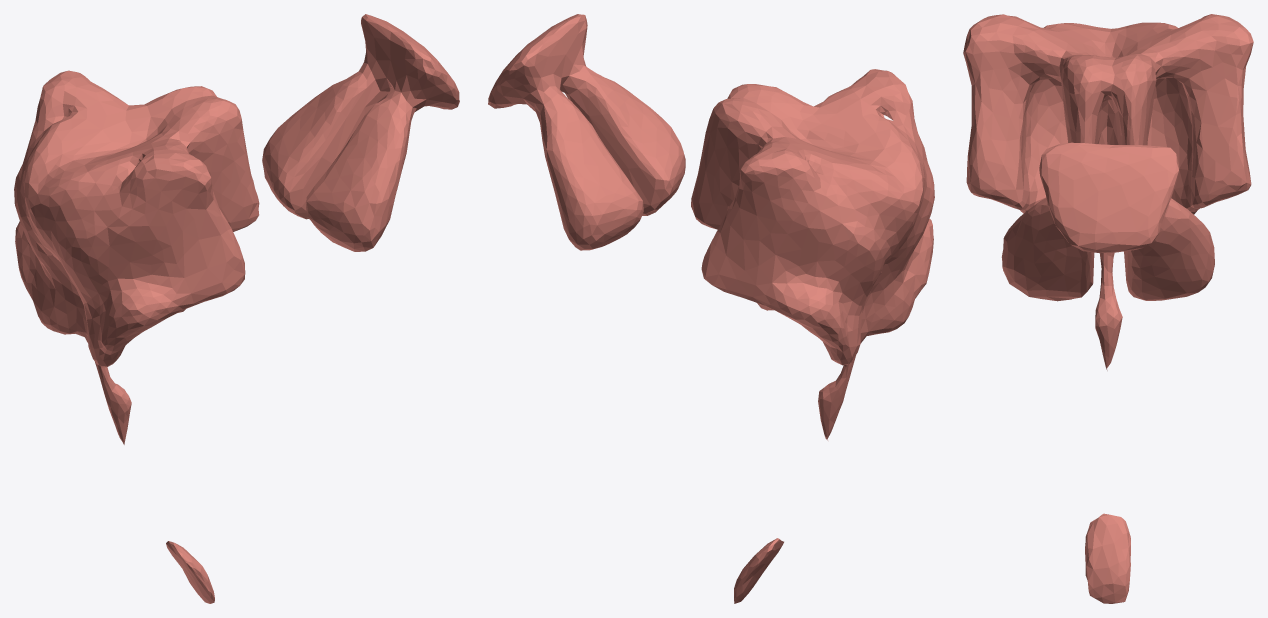
The picture shows the model from 3 angles, left to right: view 1: azimuth 30°, elevation 25°; view 2: azimuth 150°, elevation 25°; view 3: azimuth 270°, elevation 25°; orthographic projection. The views are drawn at different scales.
Visible parts, largest first — view 1: 141.obj; view 2: 141.obj; view 3: 141.obj.
Boxes of the visible parts, <box> form: 141.obj: <box>14,14,459,603</box>; 141.obj: <box>488,14,934,603</box>; 141.obj: <box>963,14,1253,603</box>.
Bounding box in the file's own units: 3325 × 4015 × 1895.
